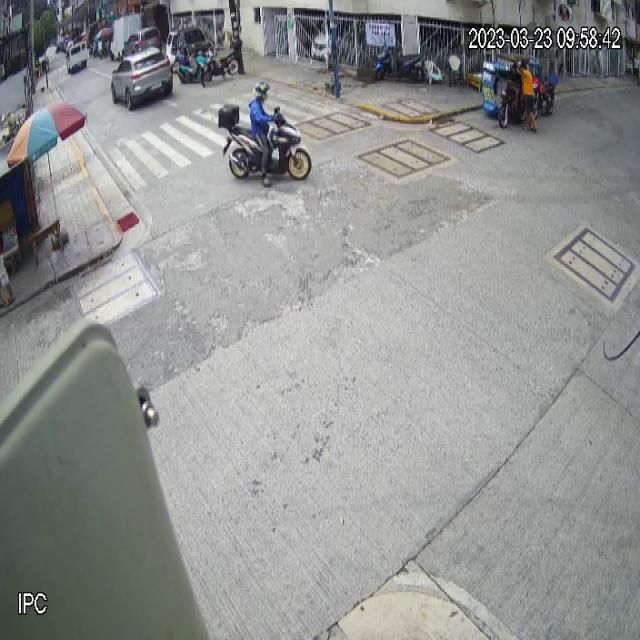Car: (111, 46, 173, 112)
Motorcycle: (218, 103, 312, 181)
Tricycle: (481, 55, 528, 131)
